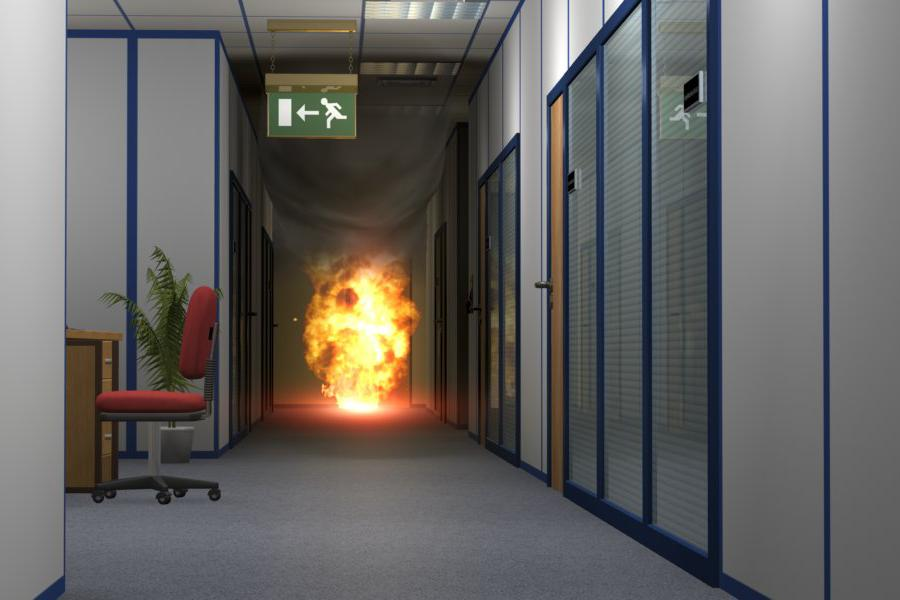fire: (295, 238, 427, 425)
